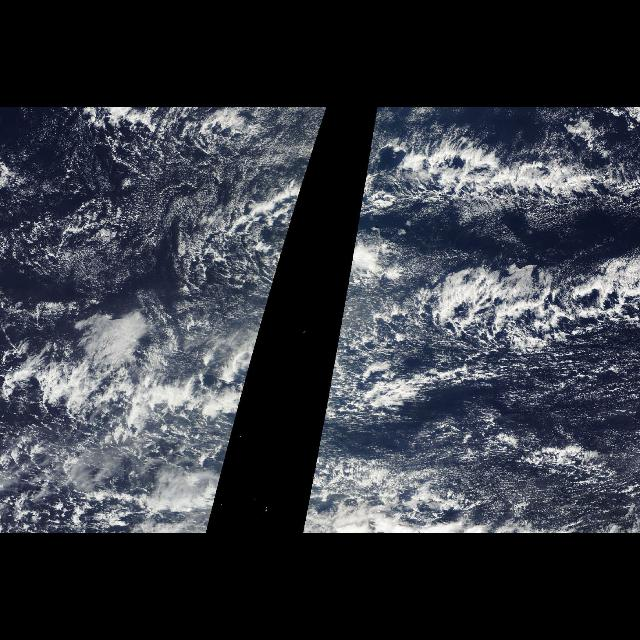Fish: (333, 125, 632, 418), (2, 300, 266, 432)
Gravel: (302, 111, 640, 531), (4, 107, 326, 531)
Sugar: (3, 109, 264, 291), (419, 383, 639, 532)
